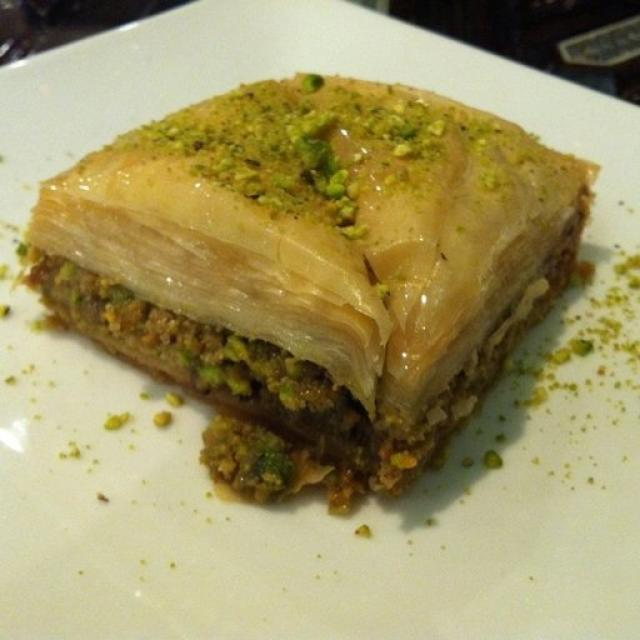Baklawa: (20, 46, 609, 512)
